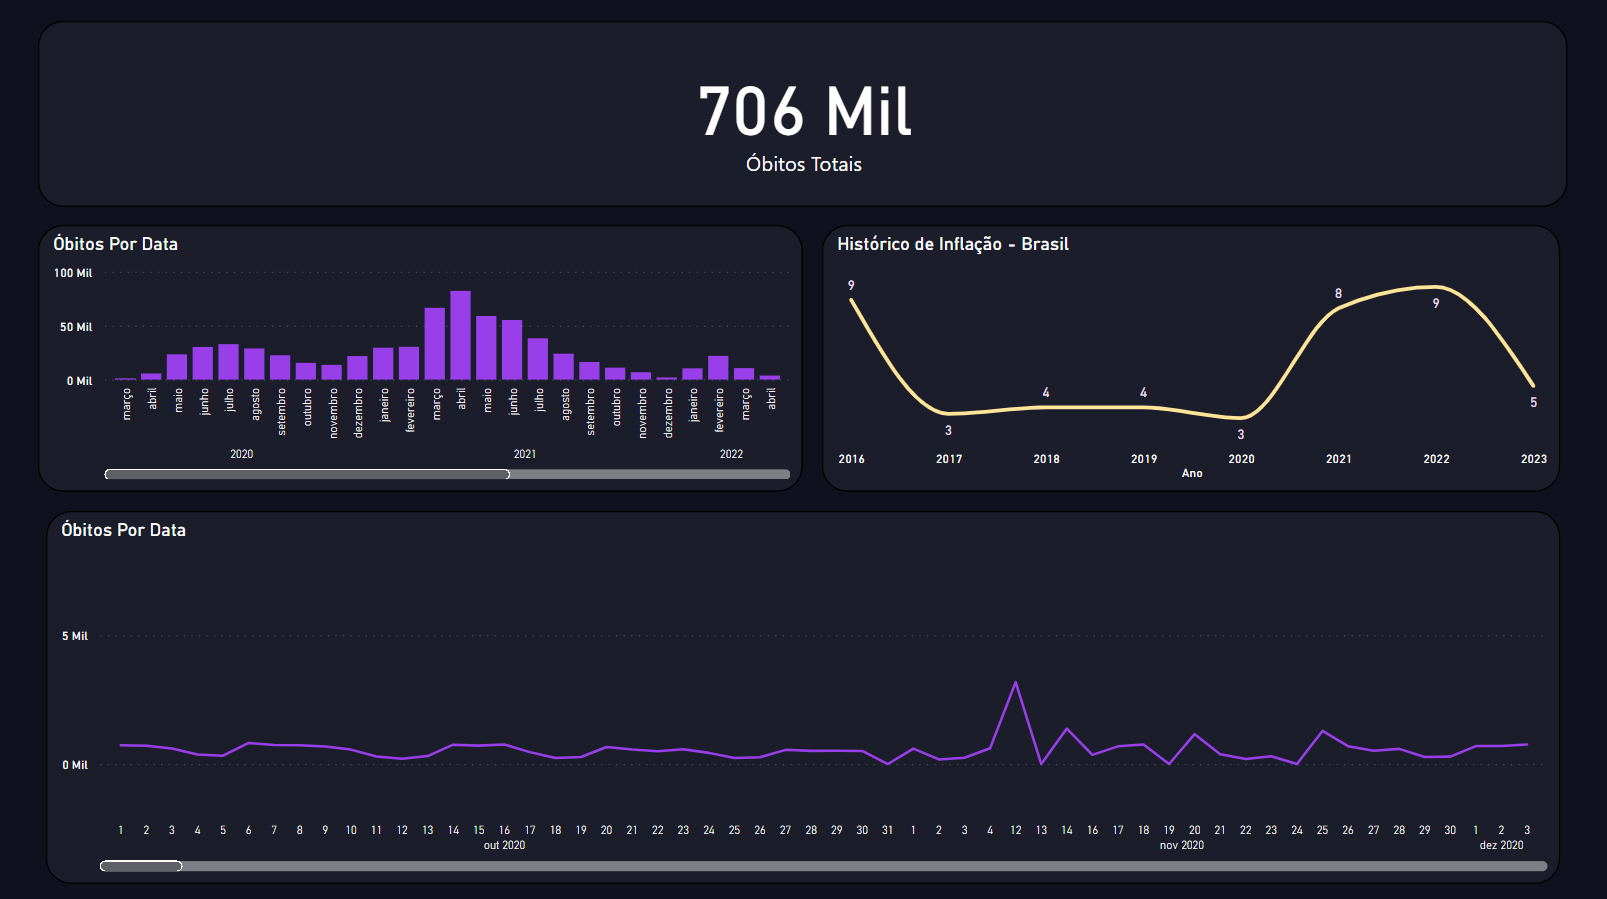

The page's visual inventory and layout, read from the dashboard file:
{"tool":"powerbi","page":{"name":"Brazil - Hist","canvas":[1280,720],"ordinal":2},"visuals":[{"type":"clusteredColumnChart","title":"Óbitos Por Data","fields":{"Y":["Sum(df_brazil_hist.Subtraction)"],"Category":["dCalendario.Date.Variation.Hierarquia de datas.Ano","dCalendario.Date.Variation.Hierarquia de datas.Mês"]},"box":[34.5,182,605.5,211.3],"z":0},{"type":"lineChart","title":"Óbitos Por Data","fields":{"Y":["Sum(df_brazil_hist.Subtraction)"],"Category":["dCalendario.Ano Mês Abr","dCalendario.Date.Variation.Hierarquia de datas.Dia"]},"box":[40.9,408.2,1198,295],"z":1000},{"type":"card","fields":{"Values":["df_brazil_hist.óbitos_tot_brasil_hist"]},"box":[34.9,20.4,1210.2,146.9],"z":2000},{"type":"lineChart","title":"Histórico de Inflação - Brasil","fields":{"Y":["Sum(Inflation.Inflation rate (Annual percent change))"],"Category":["dCalendario.Ano"]},"box":[655.1,182,583.9,211.3],"z":3002}]}

Visuals, with their boxes in screenshot pixels (x1, y1, x2, y2), scaled from the page's 1280x720 canvas onto the 1607x899 screenshot:
"Óbitos Por Data" clusteredColumnChart: l=43, t=227, r=804, b=491
"Óbitos Por Data" lineChart: l=51, t=510, r=1555, b=878
card - df_brazil_hist.óbitos_tot_brasil_hist: l=44, t=25, r=1563, b=209
"Histórico de Inflação - Brasil" lineChart: l=822, t=227, r=1556, b=491
